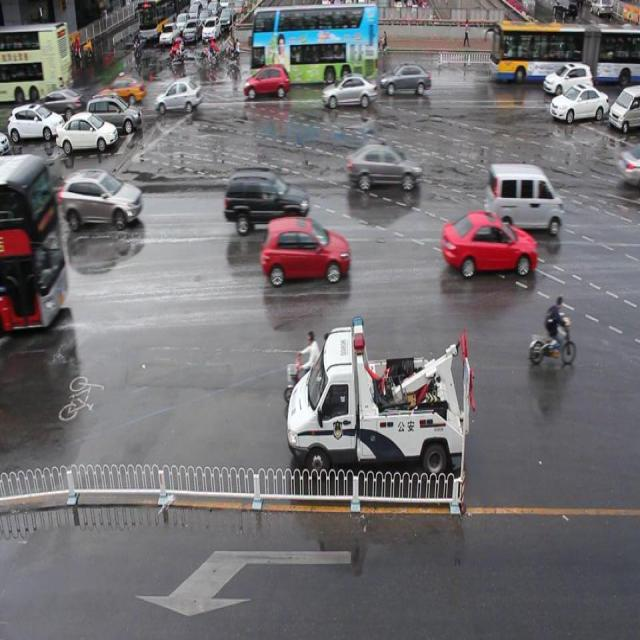car: (259, 213, 348, 287), (440, 210, 536, 276), (224, 167, 309, 228), (60, 168, 143, 228), (346, 142, 420, 194), (550, 84, 609, 122), (321, 74, 376, 109), (540, 61, 593, 97), (152, 76, 202, 111), (242, 65, 292, 99), (380, 62, 430, 94), (614, 142, 640, 188)
truck: (484, 163, 562, 234)
van: (1, 154, 68, 328), (250, 7, 379, 84), (490, 22, 640, 86)
